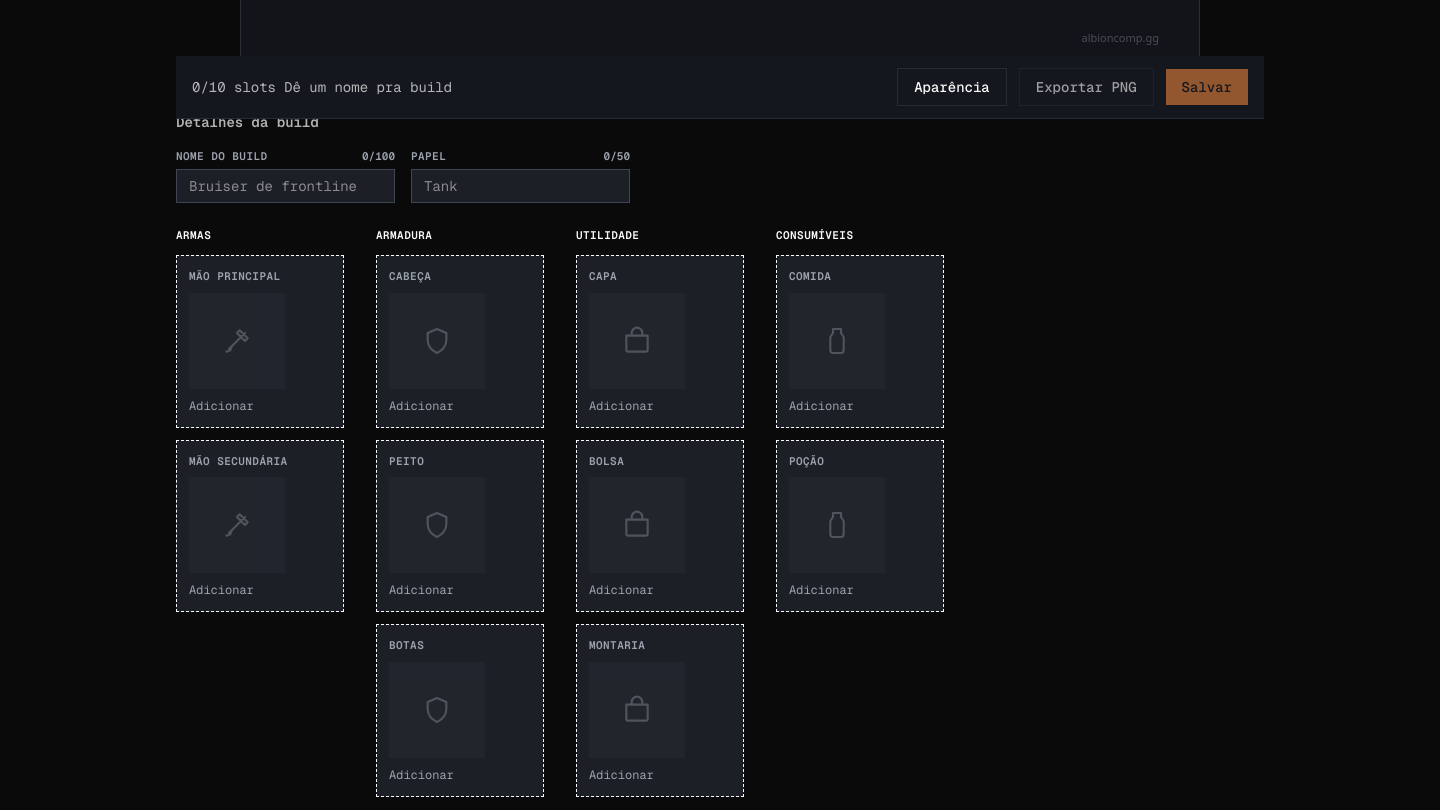
it: /build/new — ItemPicker wiring (ACM-034) › clicking the backdrop closes the picker without mutating the slot
This screenshot has width=1440, height=810.
(page scrolled)
Click the 1st text "Adicionar" at point(221, 406), box top-left (189, 396), bottom-right (254, 414)
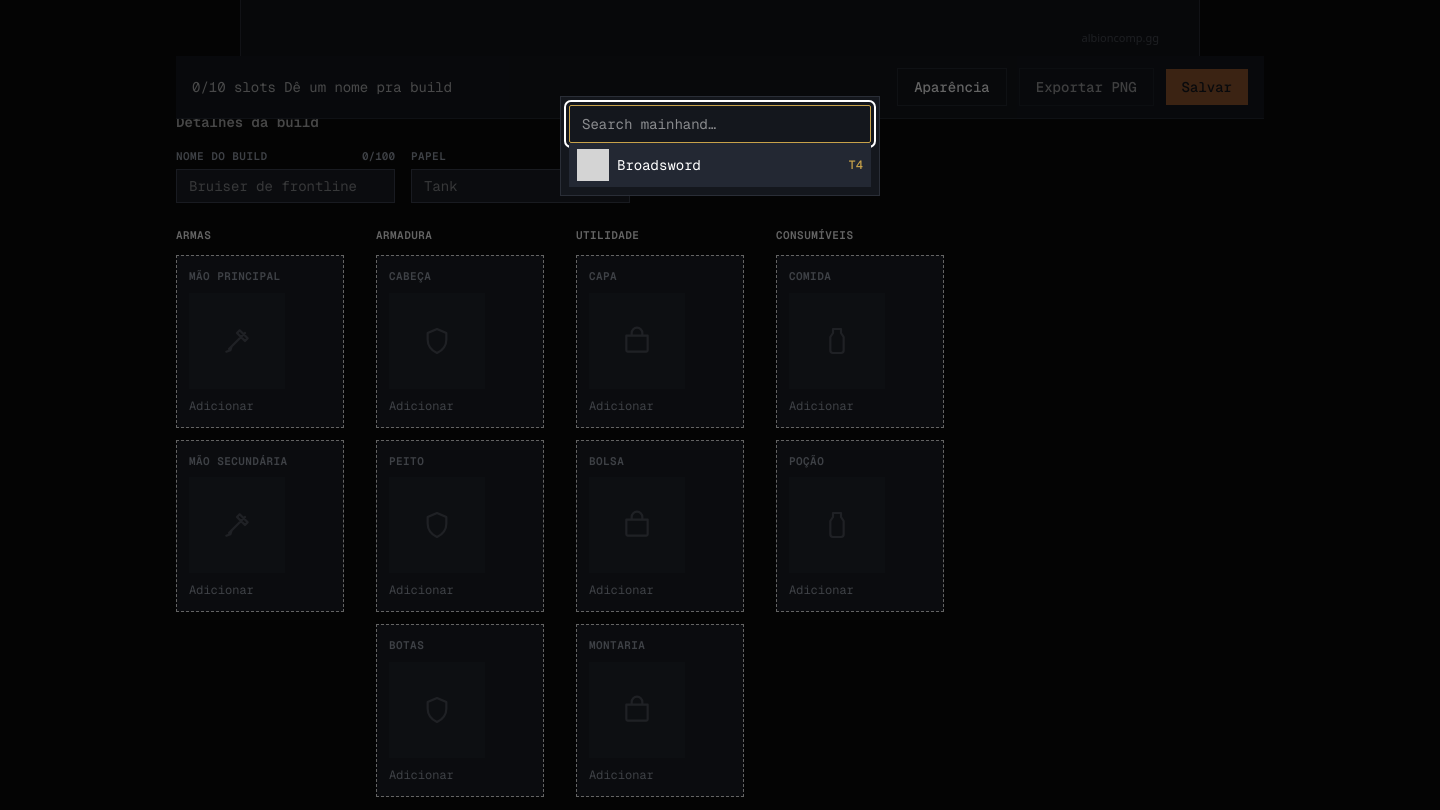
Click the element with test id "item-picker-backdrop" at point(720, 405), box top-left (0, 0), bottom-right (1439, 809)
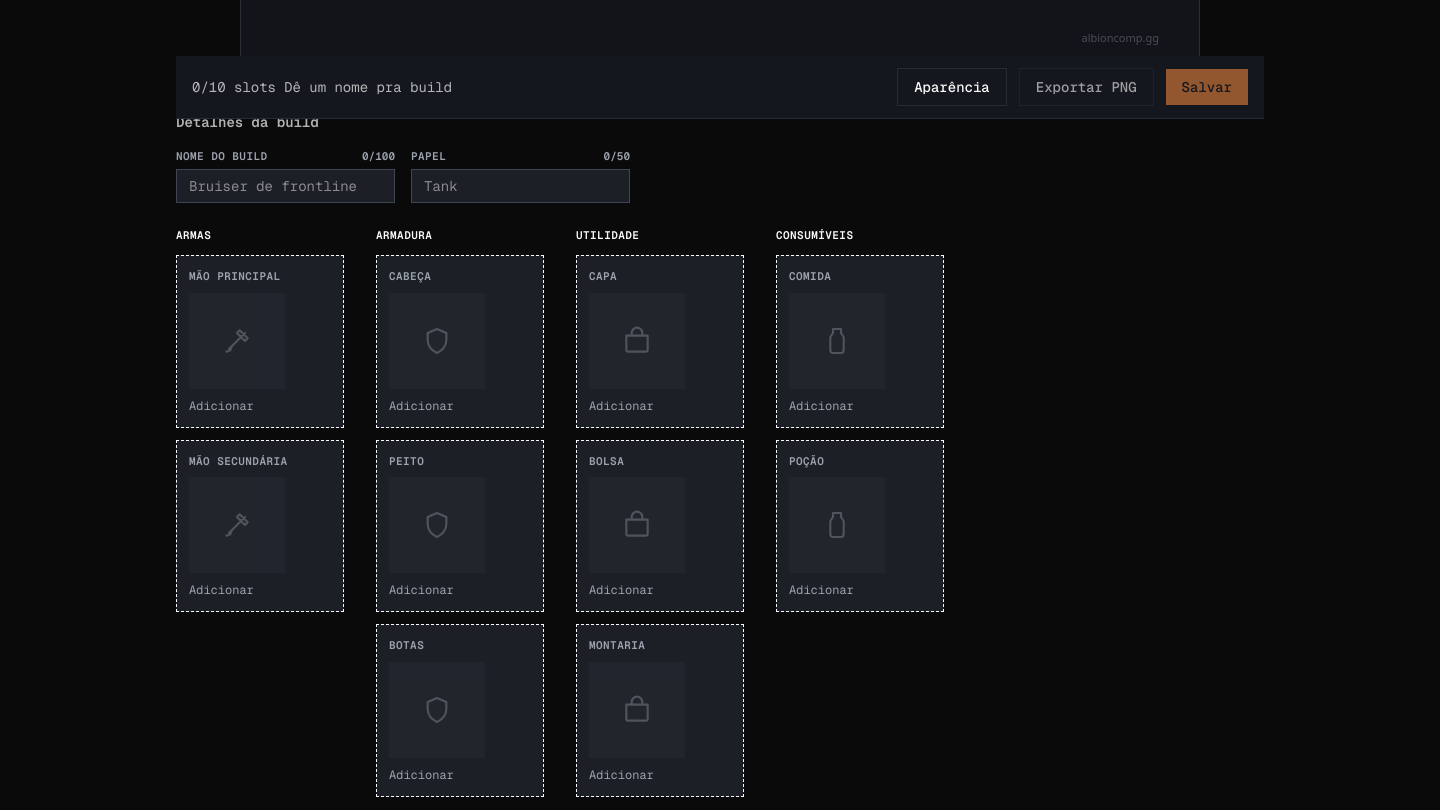
expect the dialog is gone: met
